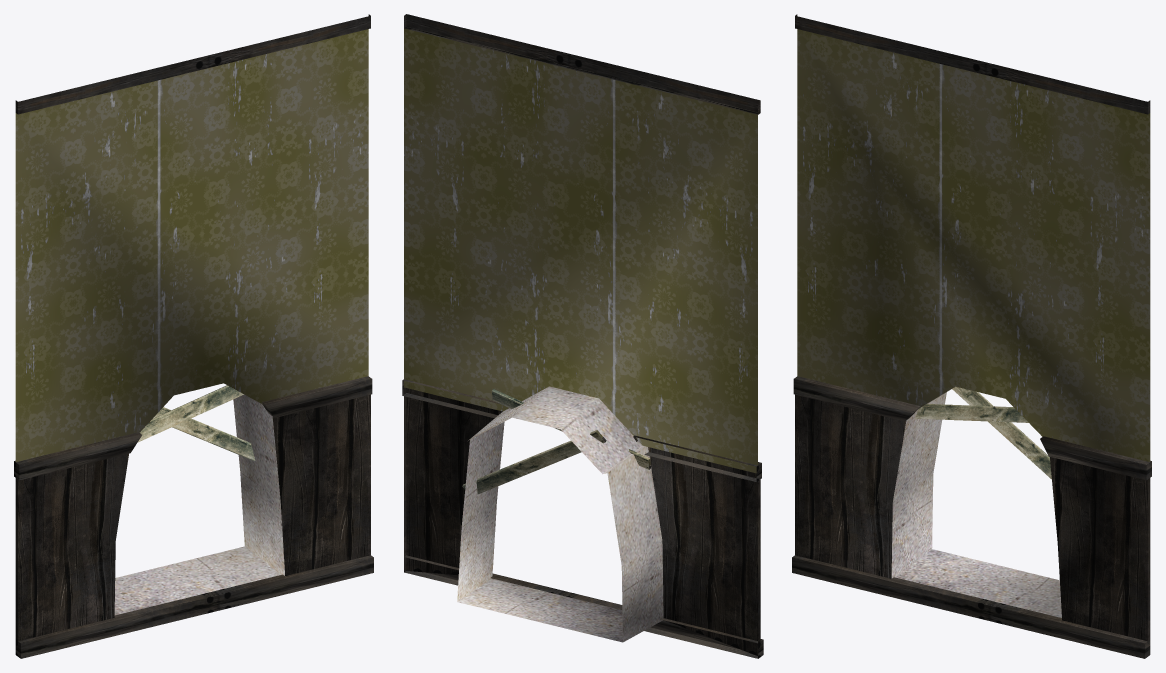
File: holeWall.fbx
3 renders of one model, left to right at view 1: azimuth 30°, elevation 25°; view 2: azimuth 150°, elevation 25°; view 3: azimuth 330°, elevation 25°, orthographic.
Visible parts, largest first — view 1: Hospital_wall; view 2: Hospital_wall; view 3: Hospital_wall.
Part boxes in pixels (left/top/right/bottom): Hospital_wall: left=14, top=14, right=373, bottom=658; Hospital_wall: left=402, top=14, right=763, bottom=658; Hospital_wall: left=792, top=14, right=1151, bottom=658.
Size of the model in its own units: 200 by 301 by 42.38.
